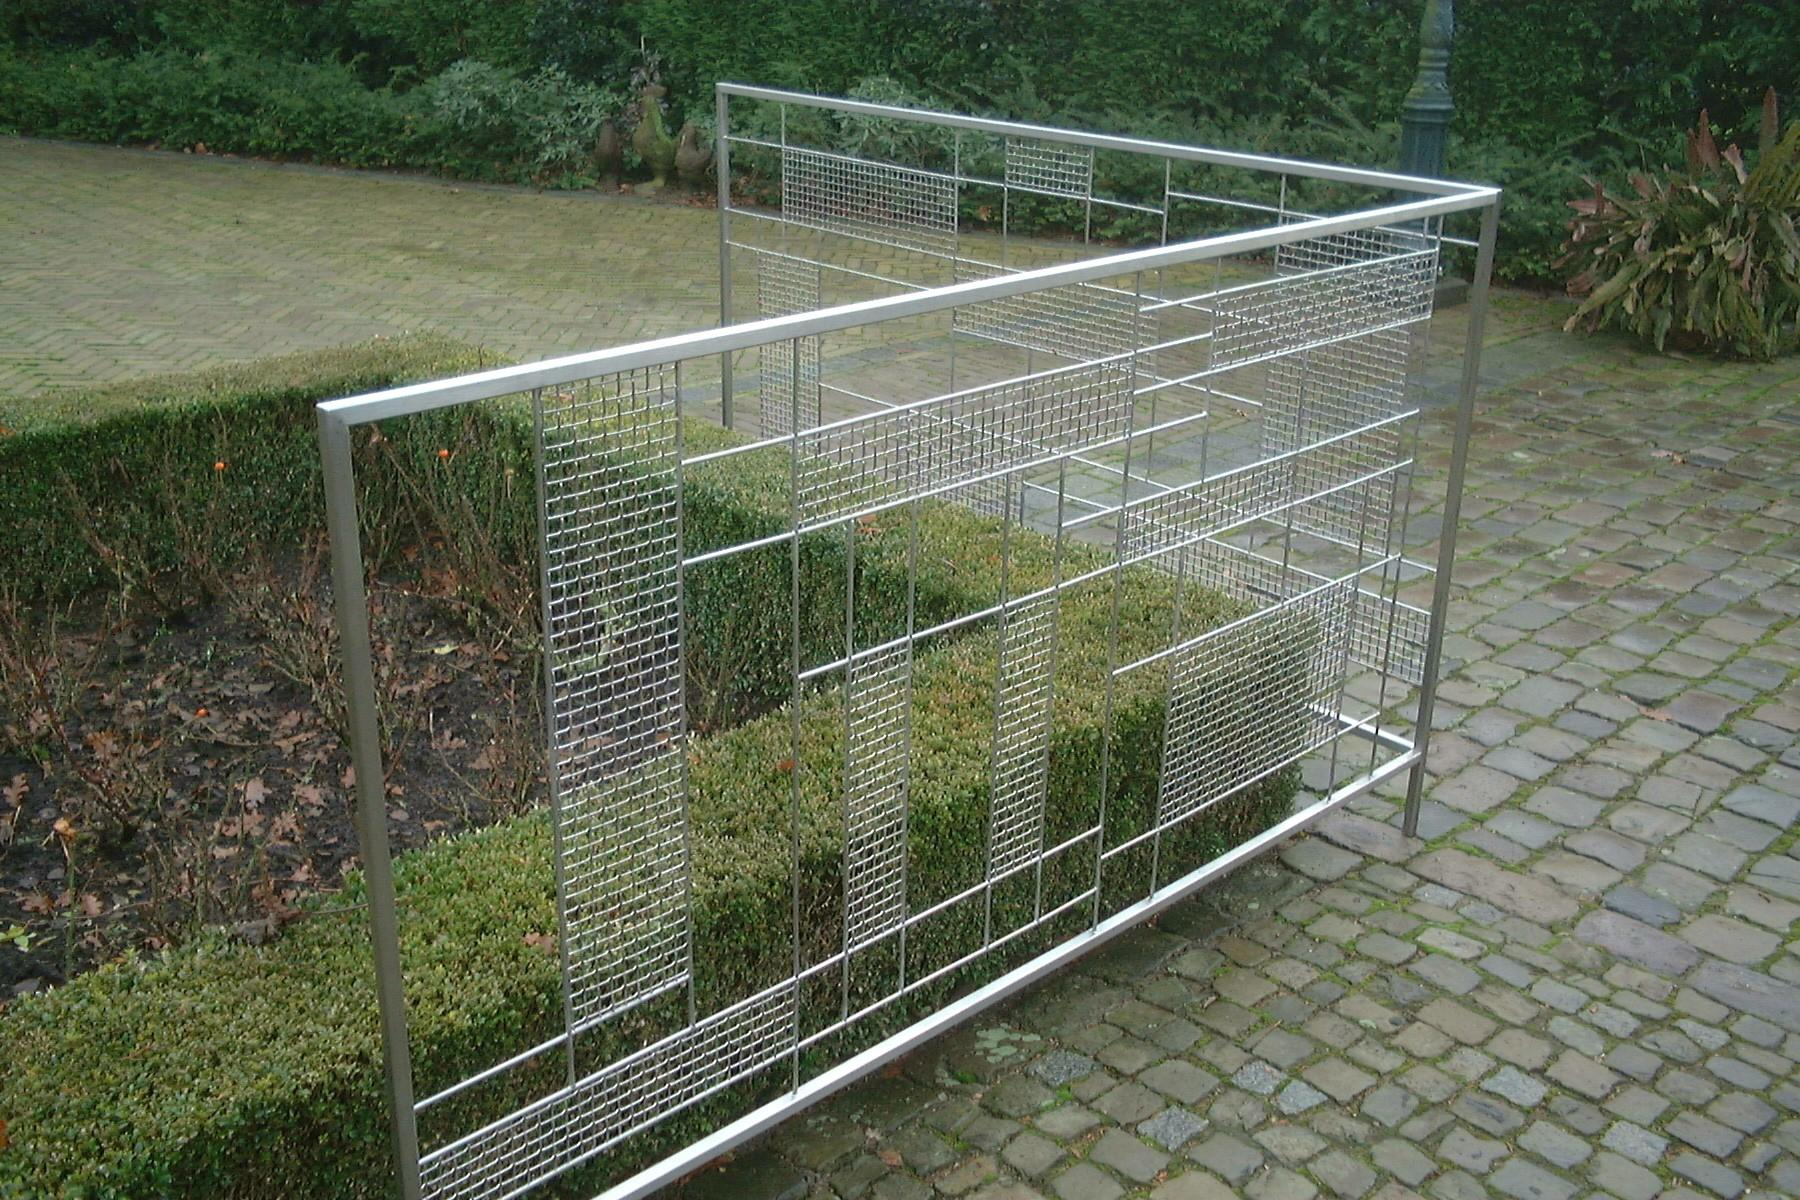obstacle: (0, 169, 1554, 1195)
